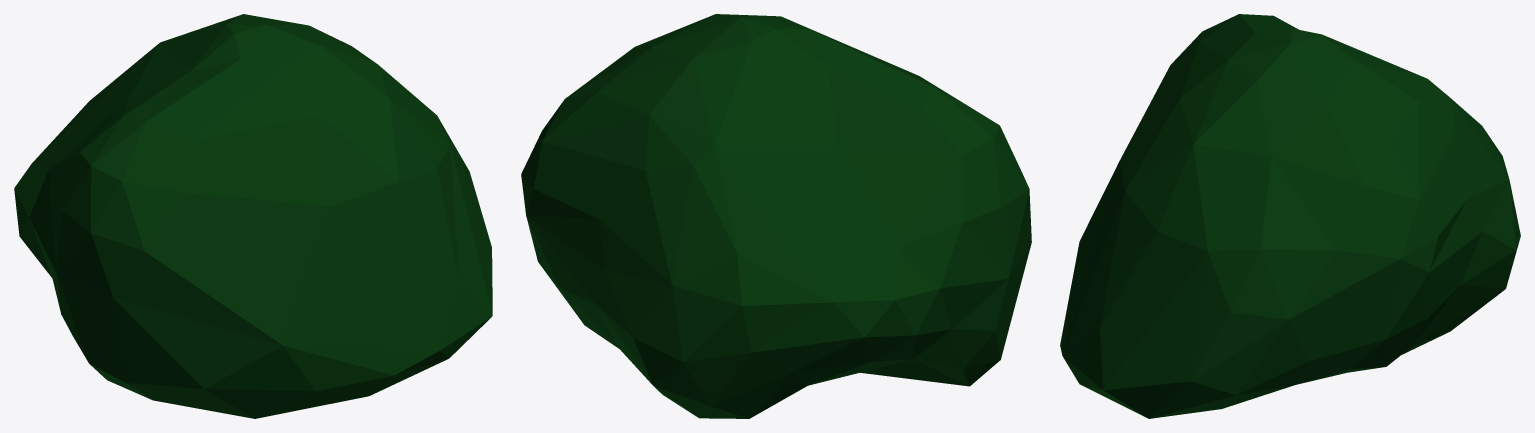
The model's file is lp_tree6_Icosphere_008.obj.
3 views of the same model, side by side, from view 1: azimuth 30°, elevation 25°; view 2: azimuth 150°, elevation 25°; view 3: azimuth 270°, elevation 25° (orthographic). The views are drawn at different scales.
Parts seen in each view (by area): view 1: lp_tree6_Icosphere_008; view 2: lp_tree6_Icosphere_008; view 3: lp_tree6_Icosphere_008.
Part boxes in pixels (box(x1,y1,x2,y2)): lp_tree6_Icosphere_008: box(14, 14, 492, 418); lp_tree6_Icosphere_008: box(521, 14, 1031, 418); lp_tree6_Icosphere_008: box(1060, 14, 1520, 418).
Size of the model in its own units: 8.13 by 6.15 by 7.61.
